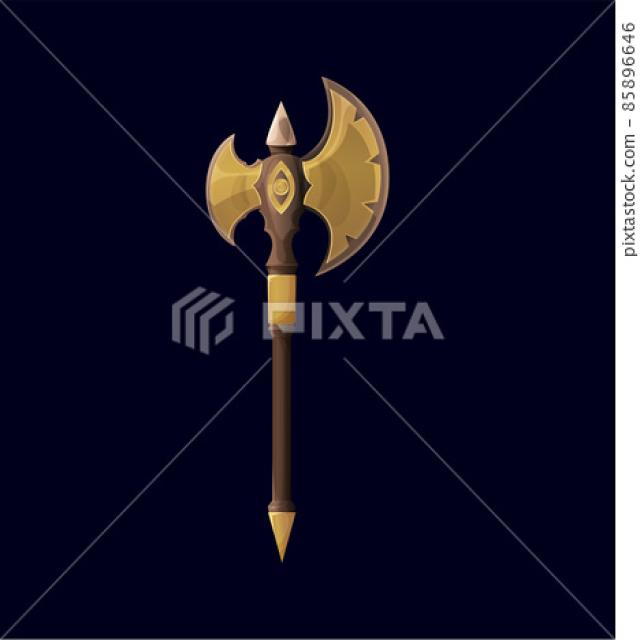Gun: (190, 67, 398, 572)
